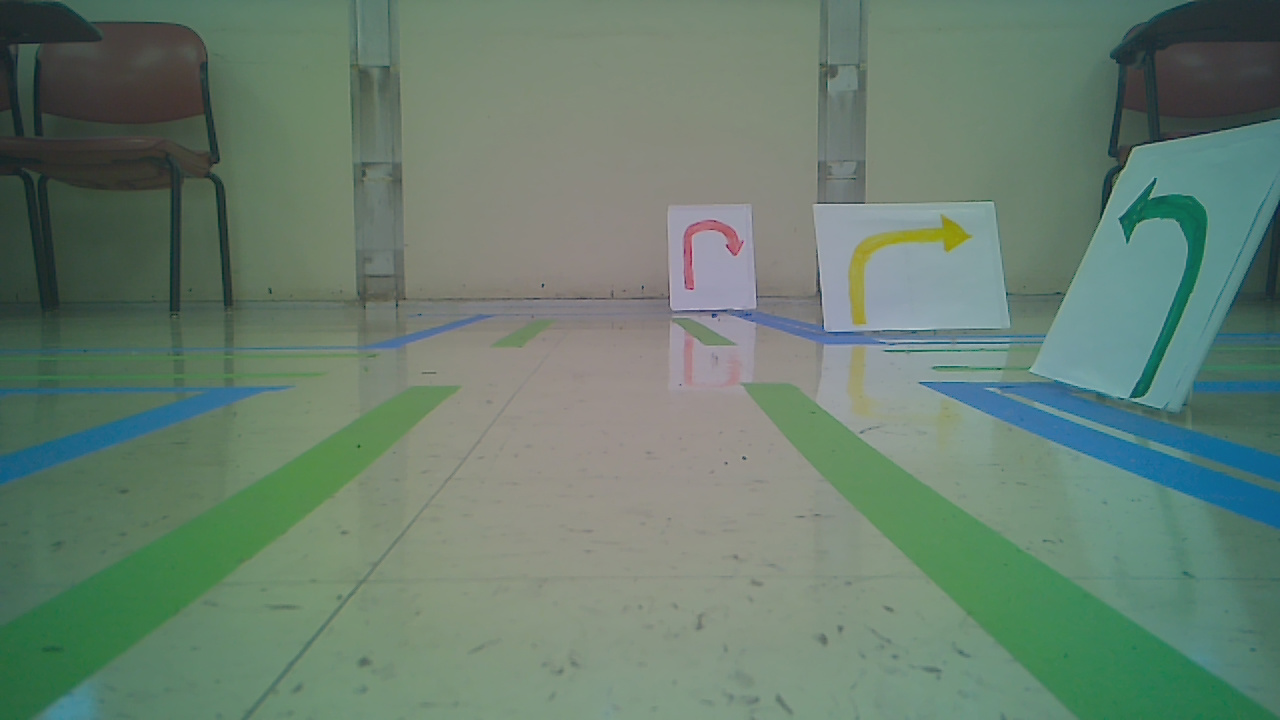greenline: (737, 382, 1244, 716), (2, 380, 459, 720)
left: (1115, 178, 1207, 415)
right: (845, 214, 979, 329)
uturn: (680, 220, 749, 293)
